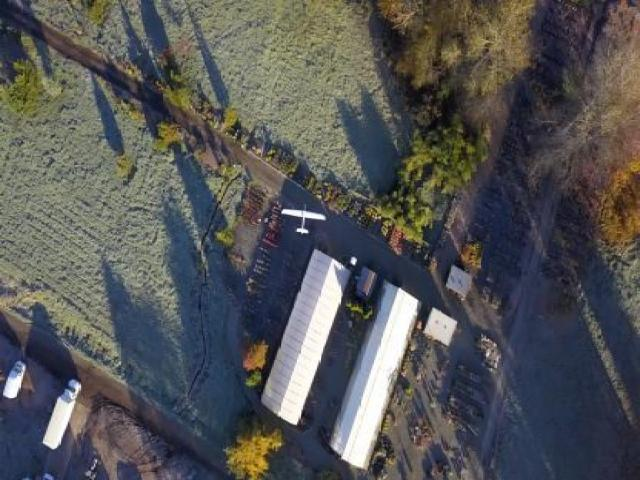uav: (276, 196, 332, 236)
